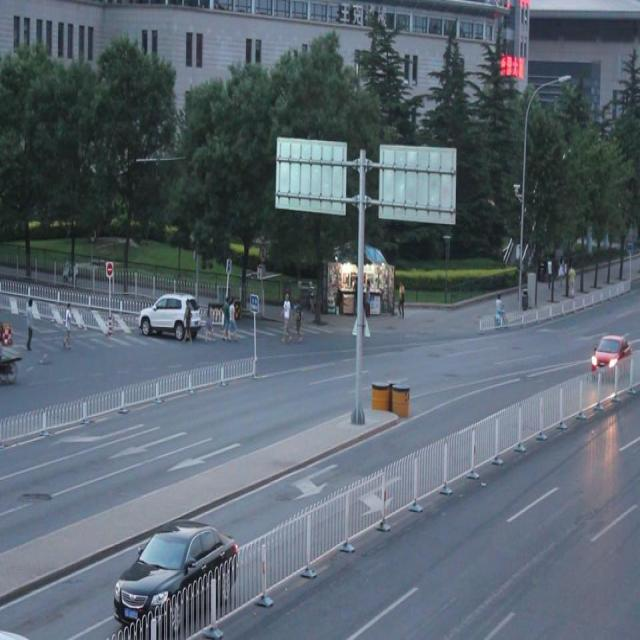car: (114, 521, 236, 620), (140, 293, 200, 339), (588, 329, 629, 379)
